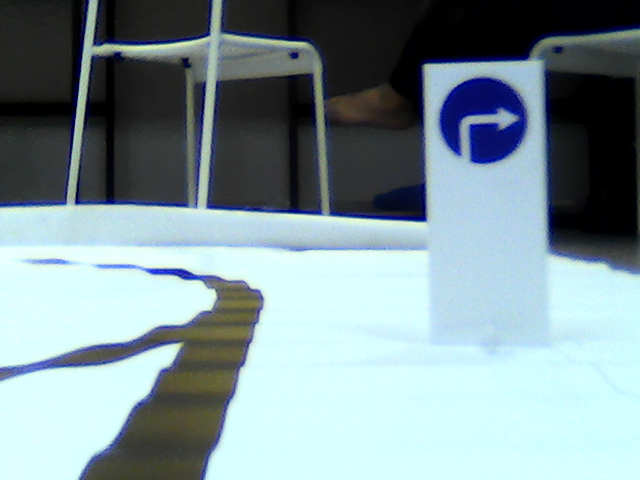Right: (439, 74, 530, 162)
